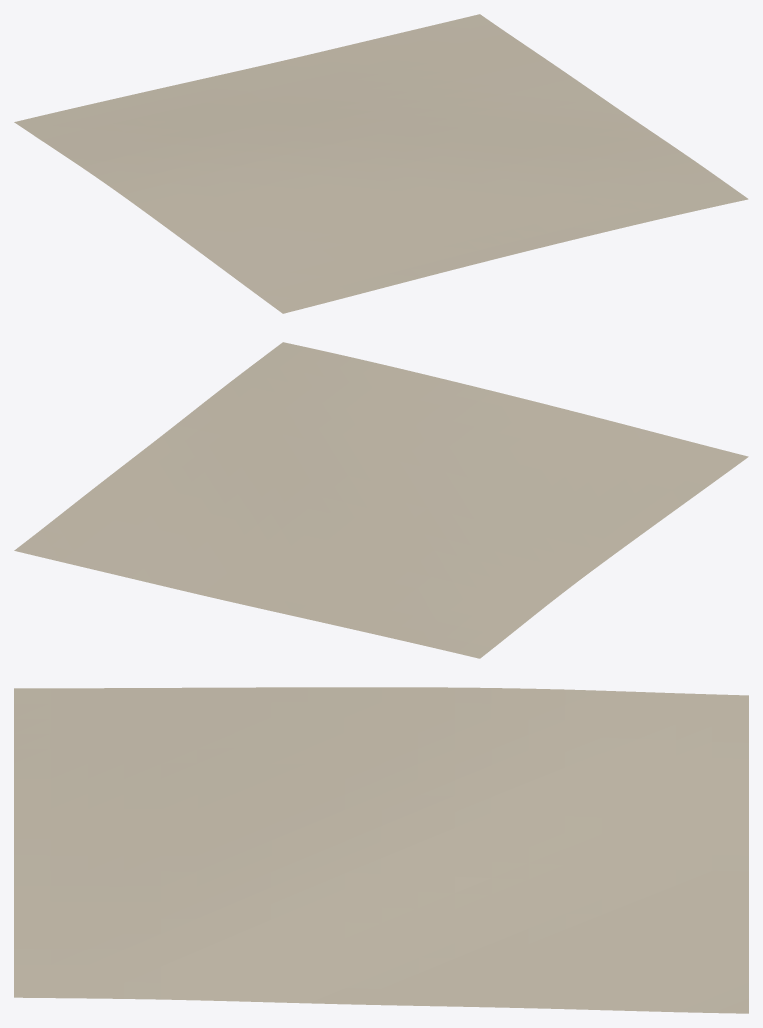
File: bolak_-22_-14.glb
3 views of the same model, one above another, from view 1: azimuth 30°, elevation 25°; view 2: azimuth 150°, elevation 25°; view 3: azimuth 270°, elevation 25° (orthographic). The views are drawn at different scales.
Visible parts, largest first — view 1: Yer_Tuproq-col; view 2: Yer_Tuproq-col; view 3: Yer_Tuproq-col.
Part boxes in pixels (x1,y1,x2,y2): Yer_Tuproq-col: (14,14,748,313); Yer_Tuproq-col: (14,342,748,658); Yer_Tuproq-col: (14,687,748,1013).
Size of the model in its own units: 400 by 11.51 by 400.
